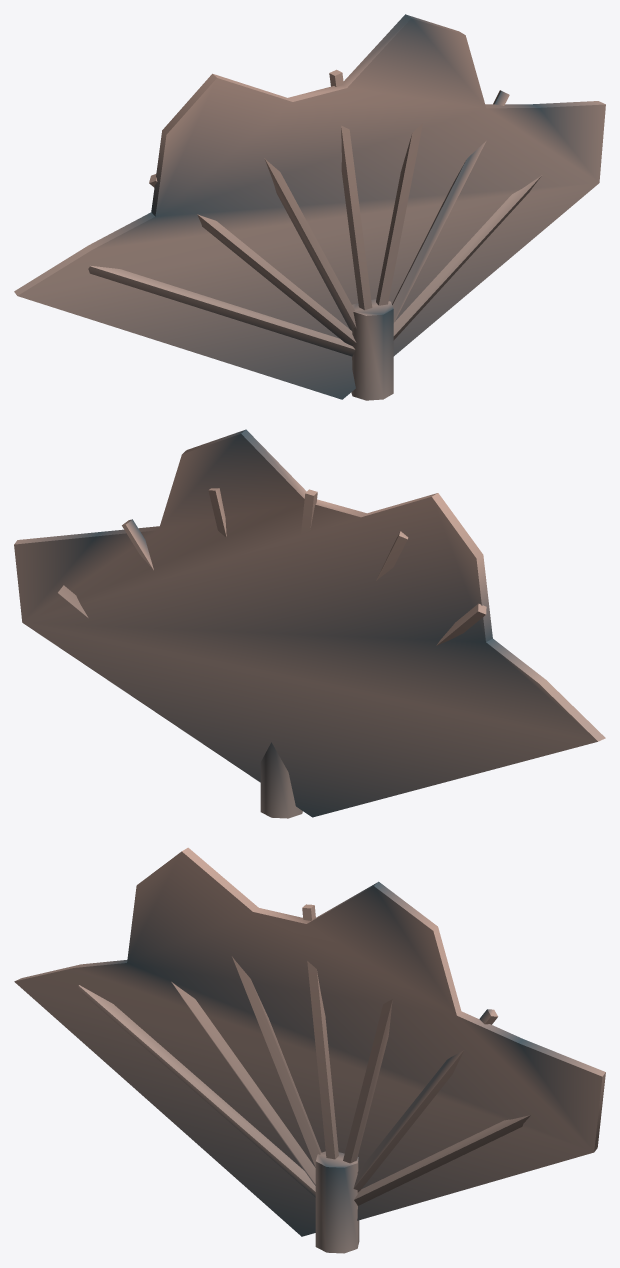
Rendered from coral_fan.glb.
3 renders of one model, top to bottom at view 1: azimuth 30°, elevation 25°; view 2: azimuth 150°, elevation 25°; view 3: azimuth 330°, elevation 25°, orthographic.
Parts seen in each view (by area): view 1: CoralFan; view 2: CoralFan; view 3: CoralFan.
Boxes of the visible parts, bbox=[...] form: CoralFan: bbox=[14, 14, 605, 400]; CoralFan: bbox=[14, 429, 605, 818]; CoralFan: bbox=[14, 847, 605, 1253].
Bounding box in the file's own units: 1.81 × 1.08 × 0.1805.
